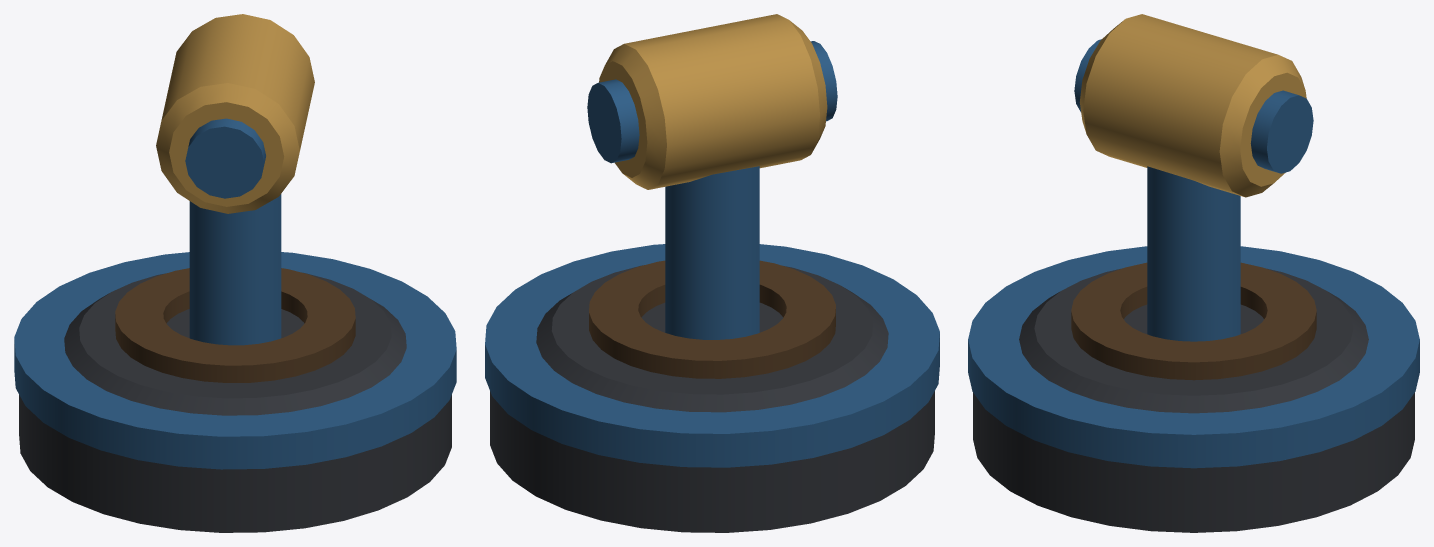
The model's file is rm2_leg_rr_foot.obj.
3 renders of one model, left to right at view 1: azimuth 30°, elevation 25°; view 2: azimuth 150°, elevation 25°; view 3: azimuth 270°, elevation 25°, orthographic. The views are drawn at different scales.
Visible parts, largest first — view 1: rm2_leg_rr_foot; view 2: rm2_leg_rr_foot; view 3: rm2_leg_rr_foot.
Part boxes in pixels (bbox=[...]): rm2_leg_rr_foot: bbox=[14, 14, 456, 532]; rm2_leg_rr_foot: bbox=[485, 14, 939, 532]; rm2_leg_rr_foot: bbox=[968, 14, 1419, 532].
Size of the model in its own units: 0.184 by 0.18 by 0.184.
